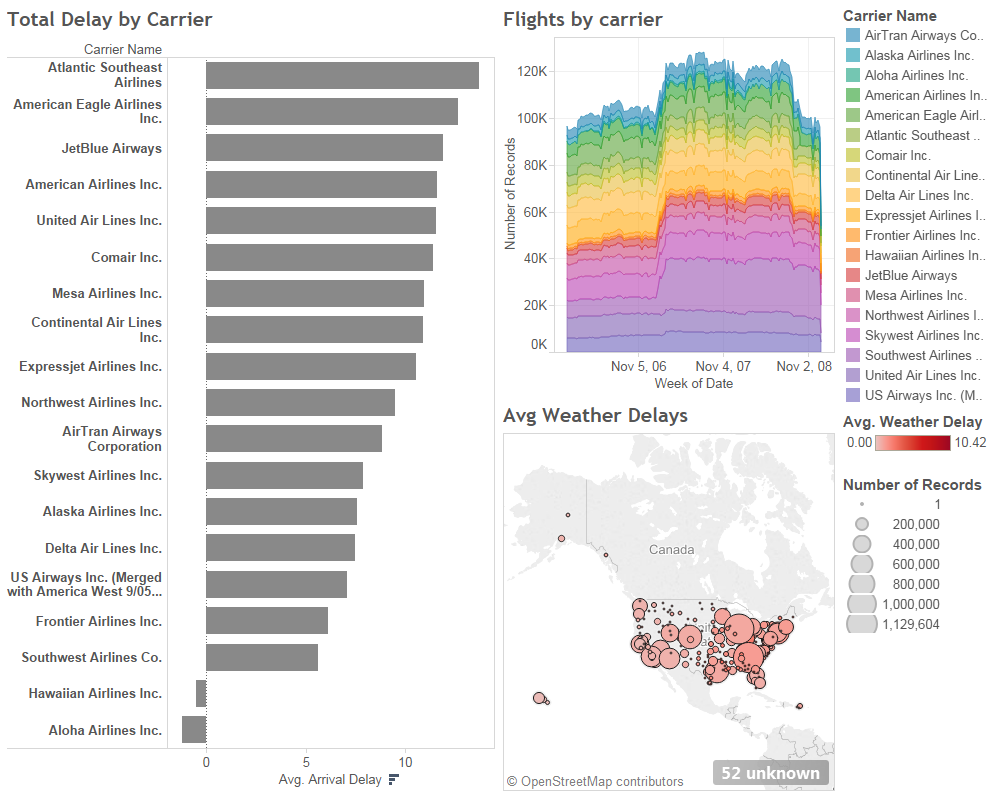

Layout of this report page (visuals, bound fields, positions):
{"tool":"tableau","page":{"name":"Dashboard 1","canvas":[1000,800],"ordinal":0},"visuals":[{"type":"worksheet","title":"Total Delay by Carrier","mark":"Automatic","rows":["carrier name"],"cols":["arrival delay"],"box":[0,0,500,800]},{"type":"worksheet","title":"Flights by carrier","mark":"Area","rows":["Number of Records"],"cols":["date"],"box":[500,0,340,400]},{"type":"legend","title":"Flights by carrier","param":"[redshift.42284.315380706015].[none:carrier name:nk]","box":[840,0,160,410]},{"type":"worksheet","title":"Avg Weather Delays","mark":"Automatic","box":[500,400,340,400]},{"type":"legend","title":"Avg Weather Delays","param":"[redshift.42284.315380706015].[avg:weather delay:qk]","box":[840,410,160,63]},{"type":"legend","title":"Avg Weather Delays","param":"[redshift.42284.315380706015].[sum:Number of Records:qk]","box":[840,473,160,166]}]}

Visuals, with their boxes in screenshot pixels (x1, y1, x2, y2), scaled from the page's 1000x800 canvas onto the 997x798 screenshot:
"Total Delay by Carrier" worksheet: [left=0, top=0, right=498, bottom=797]
"Flights by carrier" worksheet (Area marks): [left=498, top=0, right=837, bottom=399]
"Flights by carrier" legend: [left=837, top=0, right=996, bottom=409]
"Avg Weather Delays" worksheet: [left=498, top=399, right=837, bottom=797]
"Avg Weather Delays" legend: [left=837, top=409, right=996, bottom=472]
"Avg Weather Delays" legend: [left=837, top=472, right=996, bottom=637]
